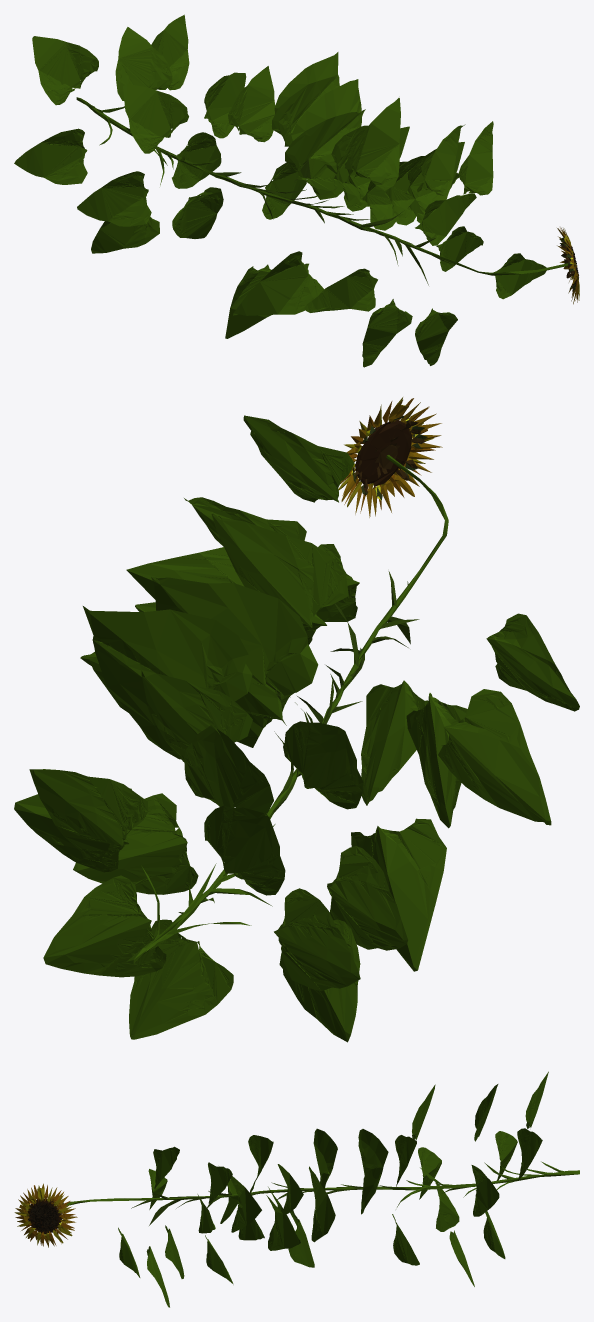
The model's file is Tournesol000046_Corrected.obj.
3 renders of one model, top to bottom at view 1: azimuth 30°, elevation 25°; view 2: azimuth 150°, elevation 25°; view 3: azimuth 270°, elevation 25°, orthographic. The views are drawn at different scales.
Visible parts, largest first — view 1: Object.14, Object.1, Object.10, Object.24, Object.8, Object.22, Object.6, Object.21, Object.27, Object.5, Object.15, Object.11 (+16 smaller); view 2: Object.6, Object.1, Object.14, Object.10, Object.17, Object.24, Object.28, Object.26, Object.7, Object.9, Object.21, Object.27 (+13 smaller); view 3: Object.1, Object.14, Object.5, Object.6, Object.13, Object.18, Object.7, Object.26, Object.3, Object.24, Object.2, Object.27 (+16 smaller).
Part boxes in pixels (x1,y1,x2,y2): Object.14: (285, 79, 368, 211); Object.1: (76, 97, 579, 304); Object.10: (233, 251, 324, 315); Object.24: (345, 98, 400, 190); Object.8: (32, 36, 98, 105); Object.22: (123, 84, 188, 153); Object.6: (272, 52, 339, 146); Object.21: (14, 128, 87, 184); Object.27: (77, 171, 151, 226); Object.5: (345, 126, 424, 230); Object.15: (115, 27, 172, 100); Object.11: (228, 66, 275, 142); Object.6: (83, 606, 252, 759); Object.1: (126, 397, 448, 964); Object.14: (89, 576, 318, 747); Object.10: (438, 689, 551, 825); Object.17: (43, 875, 166, 977); Object.24: (211, 512, 348, 627); Object.28: (129, 919, 233, 1039); Object.26: (351, 818, 446, 971); Object.7: (29, 769, 148, 859); Object.9: (73, 793, 198, 894); Object.21: (274, 888, 360, 991); Object.27: (327, 846, 407, 950); Object.1: (14, 1161, 579, 1247); Object.14: (309, 1128, 337, 1242); Object.5: (266, 1164, 303, 1250); Object.6: (358, 1129, 388, 1214); Object.13: (230, 1176, 264, 1240); Object.18: (471, 1165, 499, 1216); Object.7: (517, 1128, 542, 1180); Object.26: (288, 1210, 314, 1267); Object.3: (435, 1182, 459, 1231); Object.24: (248, 1135, 273, 1193); Object.2: (153, 1146, 179, 1188); Object.27: (418, 1147, 441, 1199).
Size of the model in its own units: 19.59 by 14.31 by 38.14.
